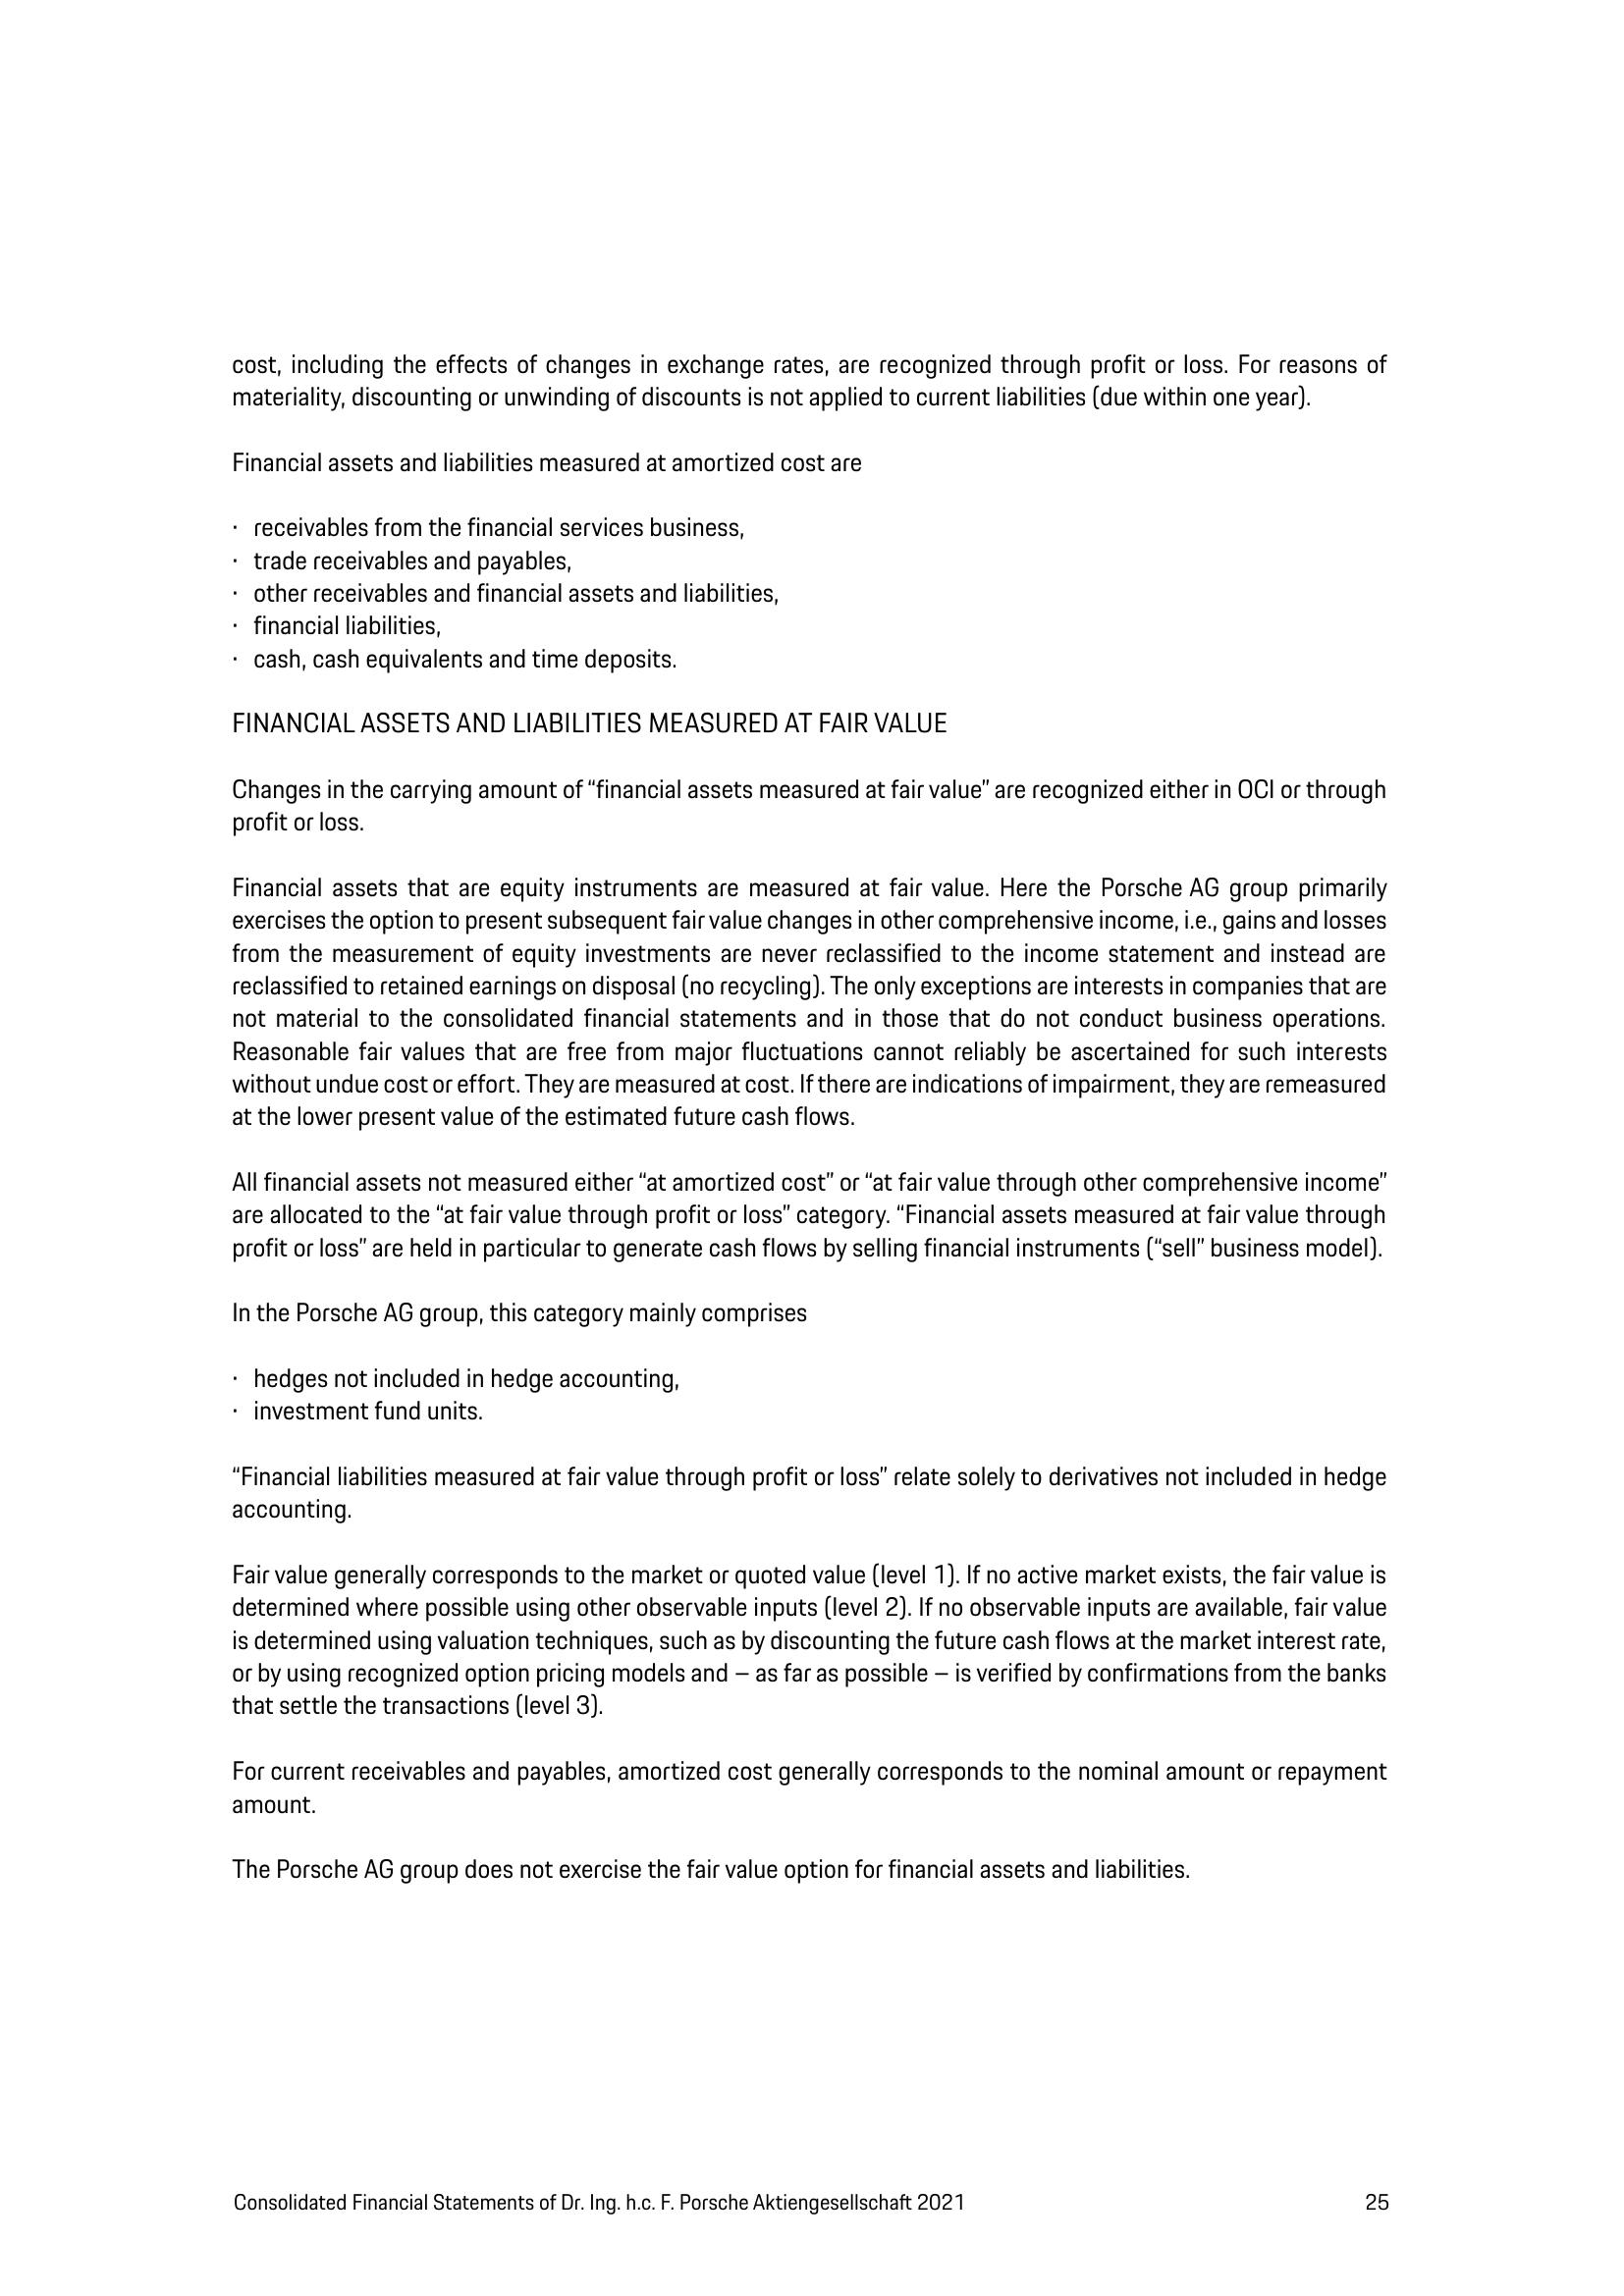Footer: (0, 2134, 1624, 2296)
Header: (0, 0, 1624, 214)
